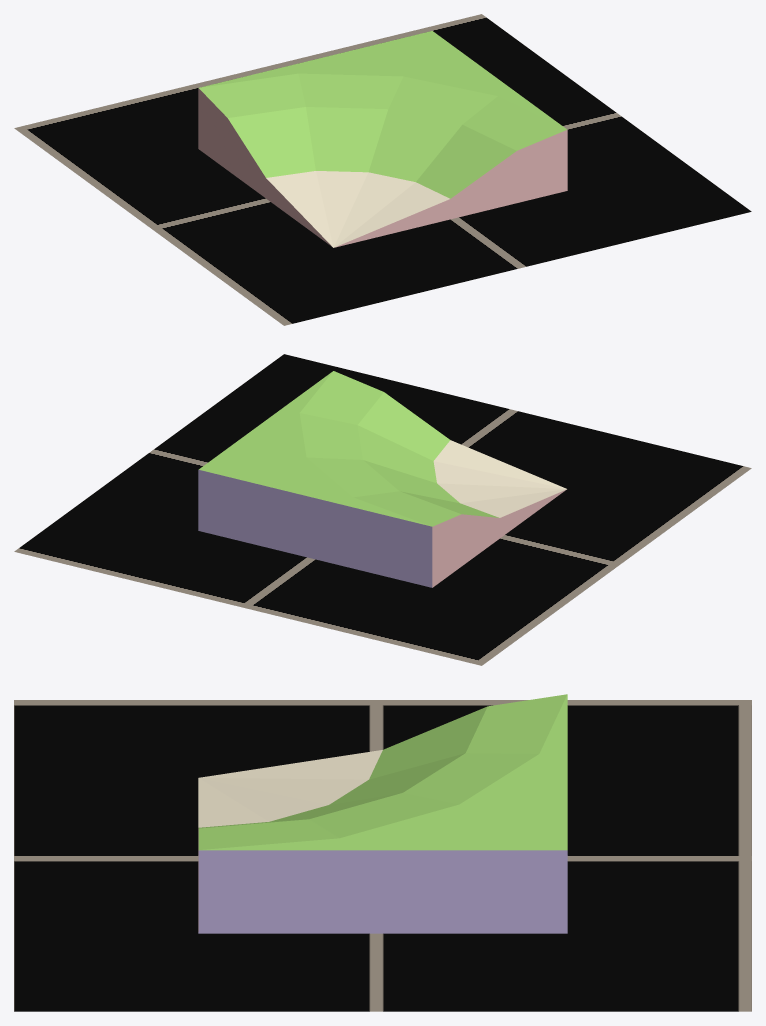
The model's file is Path_Terrain_Basic_Curve_Inner_1x1.glb.
3 renders of one model, top to bottom at view 1: azimuth 30°, elevation 25°; view 2: azimuth 150°, elevation 25°; view 3: azimuth 270°, elevation 25°, orthographic. The views are drawn at different scales.
Visible parts, largest first — view 1: Floor, Path_Terrain_Basic_Curve_Inner_1x1; view 2: Floor, Path_Terrain_Basic_Curve_Inner_1x1; view 3: Floor, Path_Terrain_Basic_Curve_Inner_1x1.
Boxes of the visible parts, x1,y1,x2,y2 form: Floor: (14,14,751,325); Path_Terrain_Basic_Curve_Inner_1x1: (198,31,567,247); Floor: (14,354,751,665); Path_Terrain_Basic_Curve_Inner_1x1: (198,371,566,587); Floor: (14,700,751,1011); Path_Terrain_Basic_Curve_Inner_1x1: (198,694,567,933).
Size of the model in its own units: 200 by 25 by 200.
Materials: 6 (1 with a texture image).
